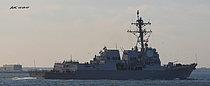MIL_Ship: (35, 30, 197, 80)
